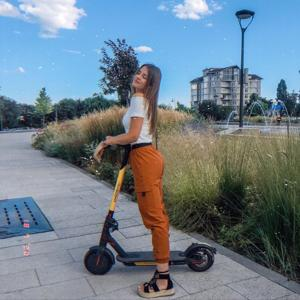human on a scooter: (83, 63, 218, 300)
